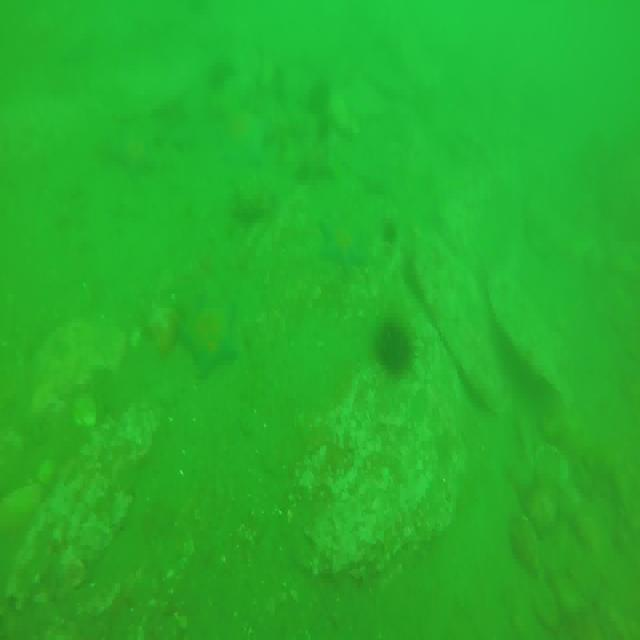echinus: (378, 321, 415, 378)
starfish: (180, 283, 239, 375), (323, 219, 365, 269), (296, 136, 335, 187), (234, 185, 273, 226)
